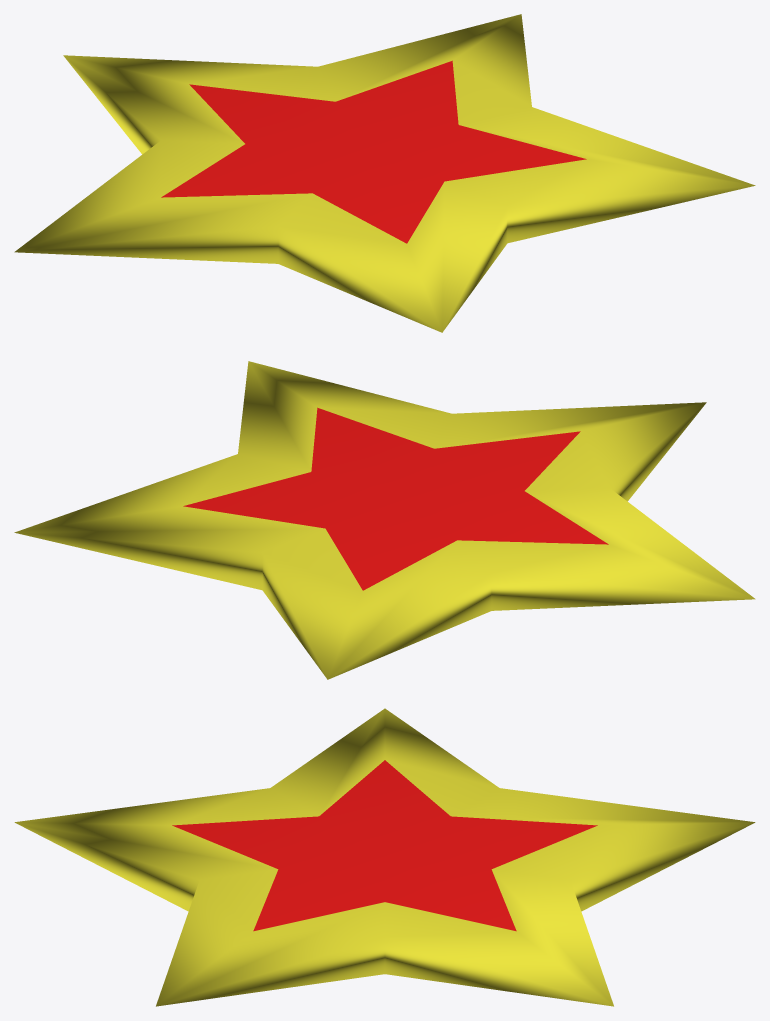
File: Communism.fbx
The picture shows the model from 3 angles, top to bottom: view 1: azimuth 30°, elevation 25°; view 2: azimuth 150°, elevation 25°; view 3: azimuth 270°, elevation 25°; orthographic projection. The views are drawn at different scales.
Parts seen in each view (by area): view 1: Star.002; view 2: Star.002; view 3: Star.002.
Part boxes in pixels (bbox=[...]): Star.002: bbox=[14, 14, 755, 332]; Star.002: bbox=[14, 361, 755, 679]; Star.002: bbox=[14, 708, 755, 1006].
Bounding box in the file's own units: 181 × 10.46 × 190.
